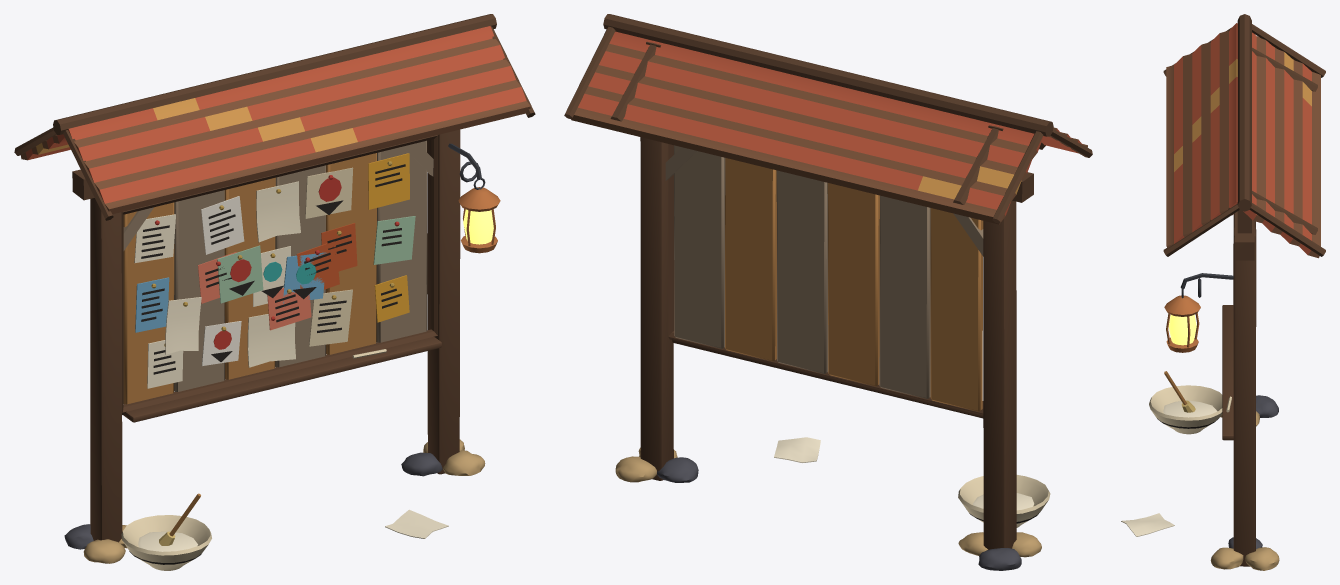
Rendered from deco_notice_board.fbx.
3 views of the same model, side by side, from view 1: azimuth 30°, elevation 25°; view 2: azimuth 150°, elevation 25°; view 3: azimuth 270°, elevation 25° (orthographic). The views are drawn at different scales.
Parts seen in each view (by area): view 1: NoticeBoard_Roof, NoticeBoard_Board, NoticeBoard_Notes, NoticeBoard_Posts, NoticeBoard_PastePot, NoticeBoard_Lantern; view 2: NoticeBoard_Board, NoticeBoard_Roof, NoticeBoard_Posts, NoticeBoard_PastePot, NoticeBoard_Notes; view 3: NoticeBoard_Roof, NoticeBoard_Posts, NoticeBoard_PastePot, NoticeBoard_Lantern, NoticeBoard_Board, NoticeBoard_Notes.
Boxes of the visible parts, x1,y1,x2,y2 form: NoticeBoard_Roof: (14,14,535,220); NoticeBoard_Board: (121,135,441,422); NoticeBoard_Notes: (134,153,448,538); NoticeBoard_Posts: (64,129,485,563); NoticeBoard_PastePot: (121,493,211,570); NoticeBoard_Lantern: (448,143,500,253); NoticeBoard_Board: (668,144,983,418); NoticeBoard_Roof: (564,14,1092,224); NoticeBoard_Posts: (610,41,1045,570); NoticeBoard_PastePot: (958,475,1050,527); NoticeBoard_Notes: (774,437,820,462); NoticeBoard_Roof: (1163,14,1325,258); NoticeBoard_Posts: (1210,47,1317,570); NoticeBoard_PastePot: (1149,371,1222,434); NoticeBoard_Lantern: (1164,273,1233,352); NoticeBoard_Board: (1222,305,1233,440); NoticeBoard_Notes: (1121,513,1174,536).
Bounding box in the file's own units: 310 × 301 × 145.
